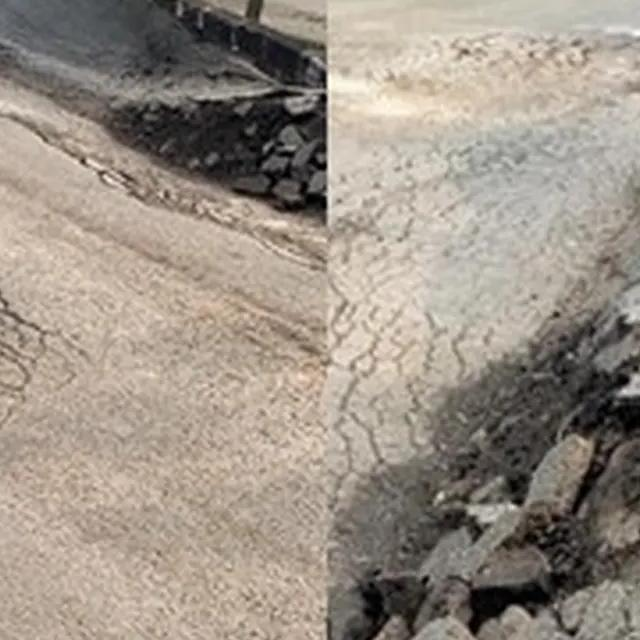retak_kulit_buaya: (340, 137, 470, 513), (340, 0, 640, 123)
